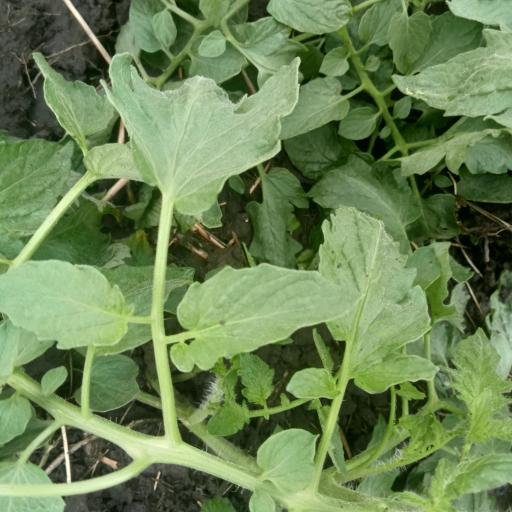Tomato_healthy: (102, 44, 302, 220), (175, 264, 367, 366)
